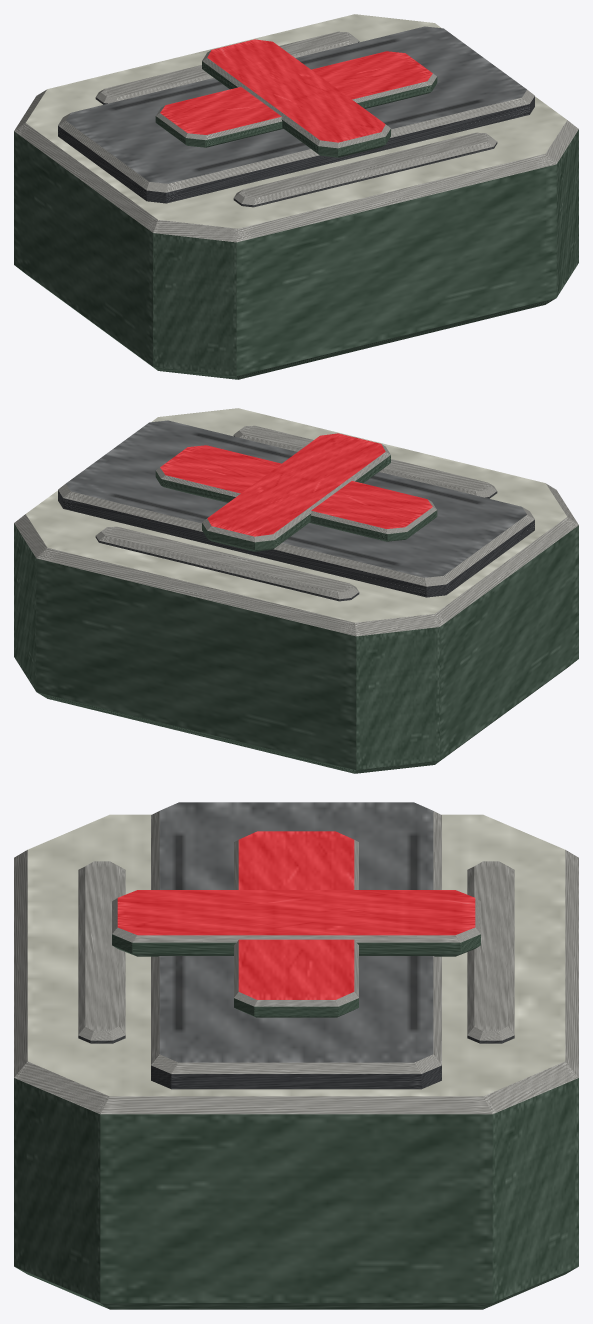
Rendered from LifePack.glb.
3 views of the same model, one above another, from view 1: azimuth 30°, elevation 25°; view 2: azimuth 150°, elevation 25°; view 3: azimuth 270°, elevation 25° (orthographic). The views are drawn at different scales.
Parts seen in each view (by area): view 1: LifePack; view 2: LifePack; view 3: LifePack.
Boxes of the visible parts, x1,y1,x2,y2 form: LifePack: (14,14,578,379); LifePack: (14,408,578,773); LifePack: (14,802,578,1309).
Size of the model in its own units: 0.41 by 0.167 by 0.334.
Materials: 1 (1 with a texture image).
